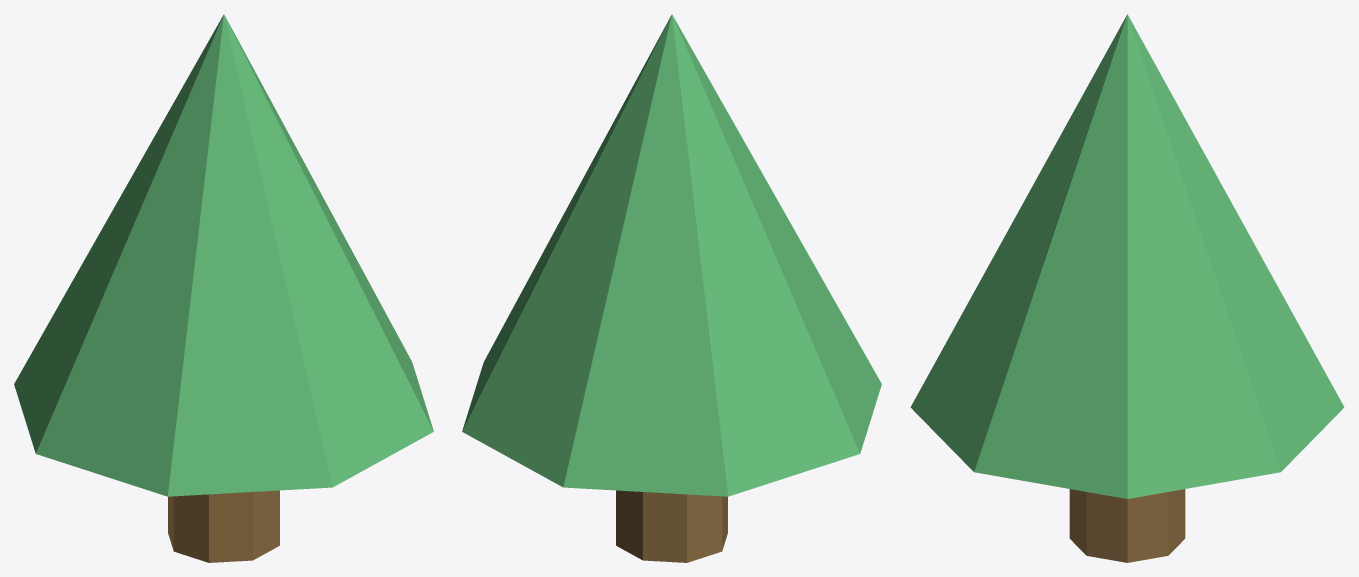
Rendered from simple_tree_vertex_colors.glb.
3 renders of one model, left to right at view 1: azimuth 30°, elevation 25°; view 2: azimuth 150°, elevation 25°; view 3: azimuth 270°, elevation 25°, orthographic.
Parts seen in each view (by area): view 1: SimpleTree; view 2: SimpleTree; view 3: SimpleTree.
Boxes of the visible parts, x1,y1,x2,y2 form: SimpleTree: (14,14,433,562); SimpleTree: (462,14,881,562); SimpleTree: (910,14,1344,562).
Bounding box in the file's own units: 3 × 4 × 3.
